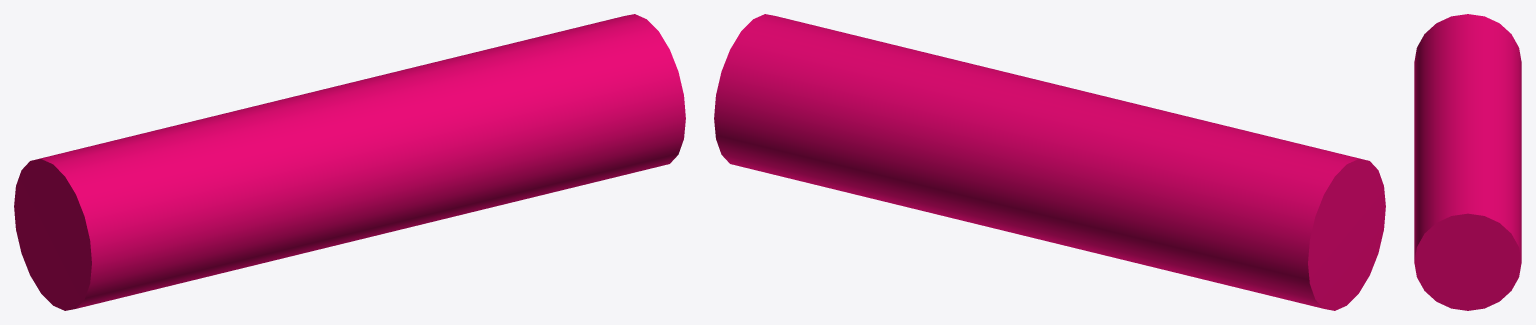
File: Air_Duct_03_Lod0.fbx
3 views of the same model, side by side, from view 1: azimuth 30°, elevation 25°; view 2: azimuth 150°, elevation 25°; view 3: azimuth 270°, elevation 25° (orthographic). The views are drawn at different scales.
Parts seen in each view (by area): view 1: Air_Duct_03_Lod0; view 2: Air_Duct_03_Lod0; view 3: Air_Duct_03_Lod0.
Boxes of the visible parts, x1,y1,x2,y2 form: Air_Duct_03_Lod0: (14,14,685,310); Air_Duct_03_Lod0: (714,14,1385,310); Air_Duct_03_Lod0: (1414,14,1521,310).
Size of the model in its own units: 274 by 62.37 by 62.37.
